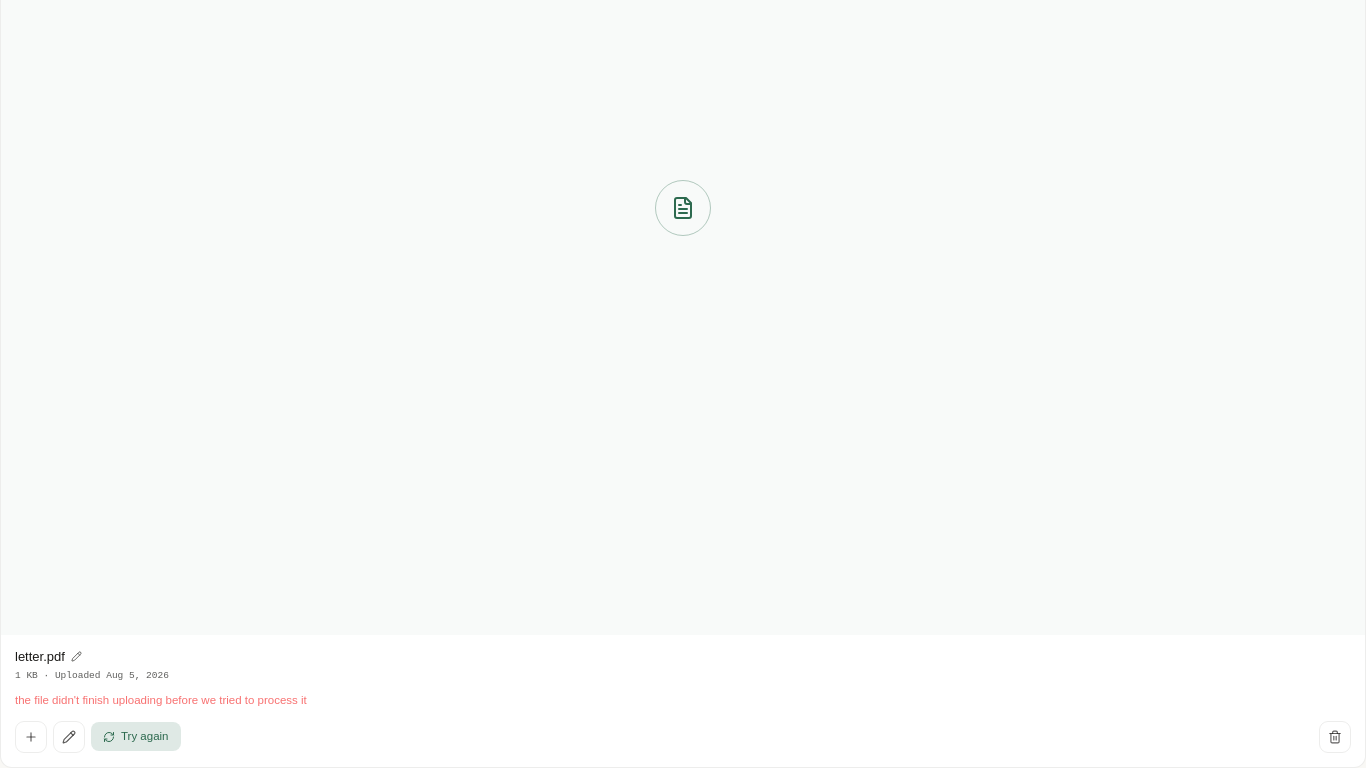
MediaCard — needs-reupload (ported from pre-Stage-1 MediaGallery.tsx when merging main's heirloom-media-upload-failures work) › a retry response confirming the file is gone swaps the retry button for a re-attach message
The width and height of the screenshot is (1366, 768).
(page scrolled)
Click the button "Try again": [136, 737] box 91,722 -> 180,752
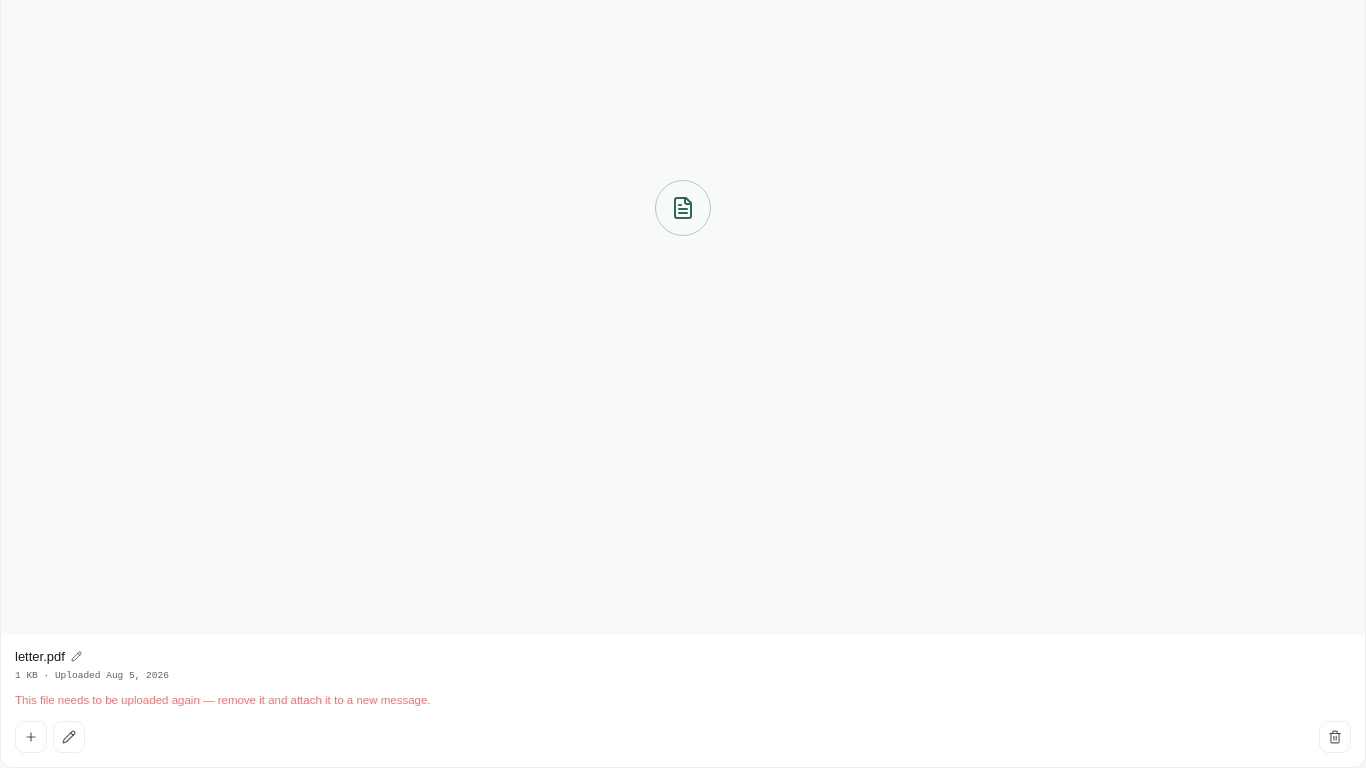
Now the text "This file needs to be uploaded again — remove it and attach it to a new message." is shown, box 15,694 -> 430,706
Now the button "Try again" is gone
